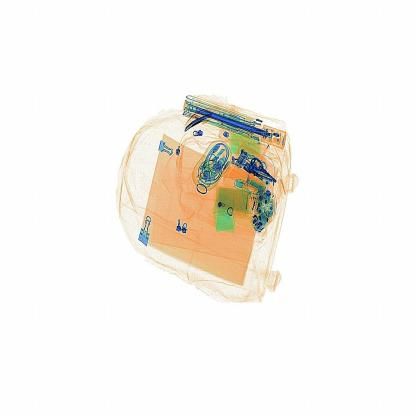pliers: (182, 105, 222, 133)
